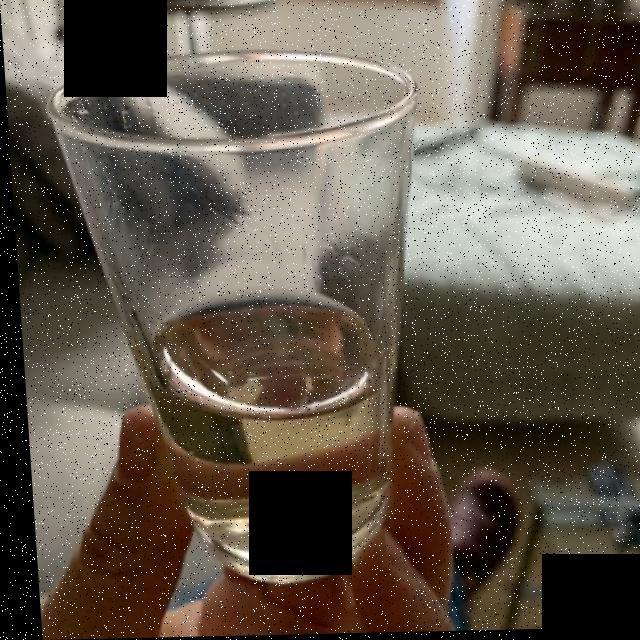wine: (132, 293, 384, 591)
